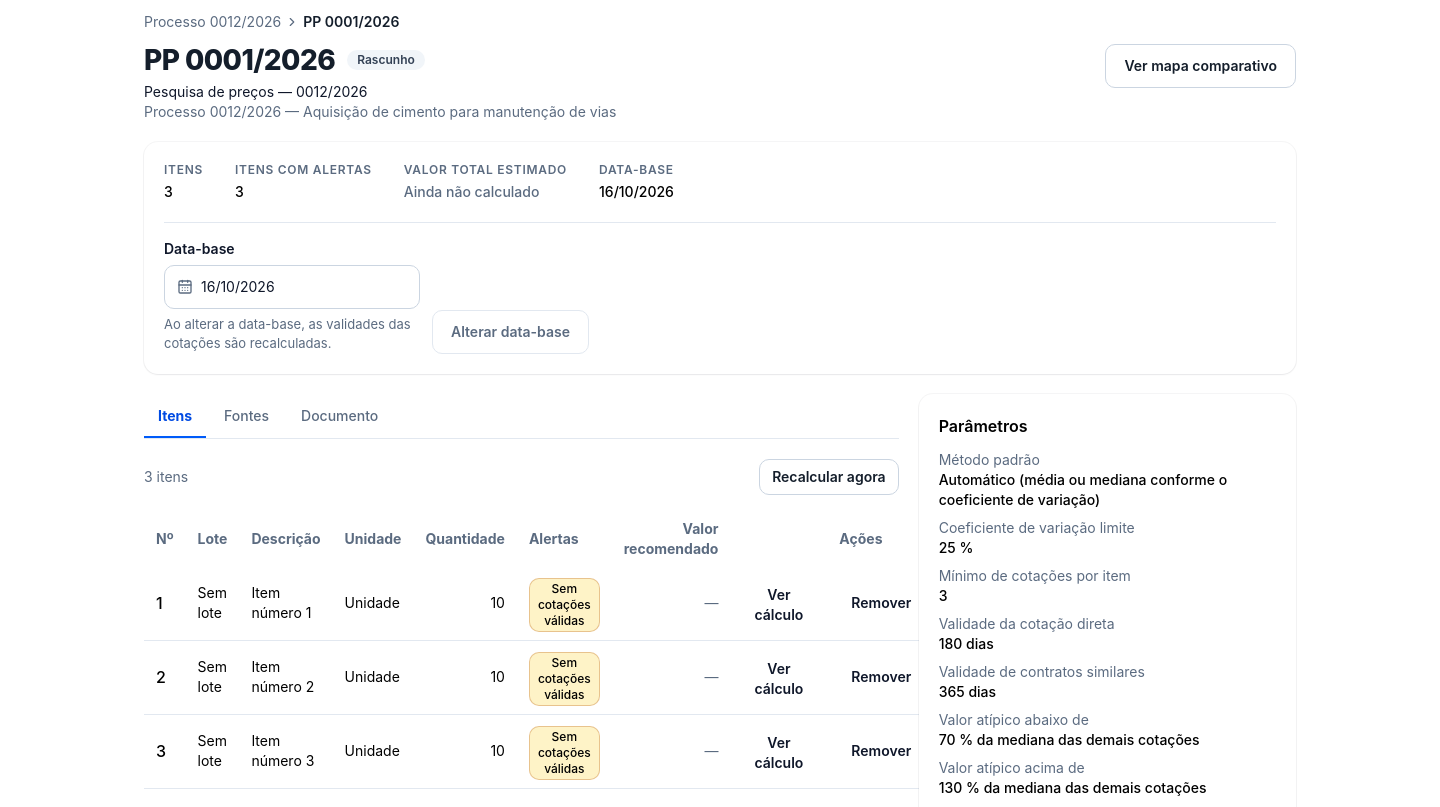
Aba "Fontes" da SCR-009 (US-026) › estado vazio com "Nova fonte" (PRS-09 com todas as páginas)
The width and height of the screenshot is (1440, 807).
Click the tab "Fontes". click: (246, 416)
box: [210,394,283,438]
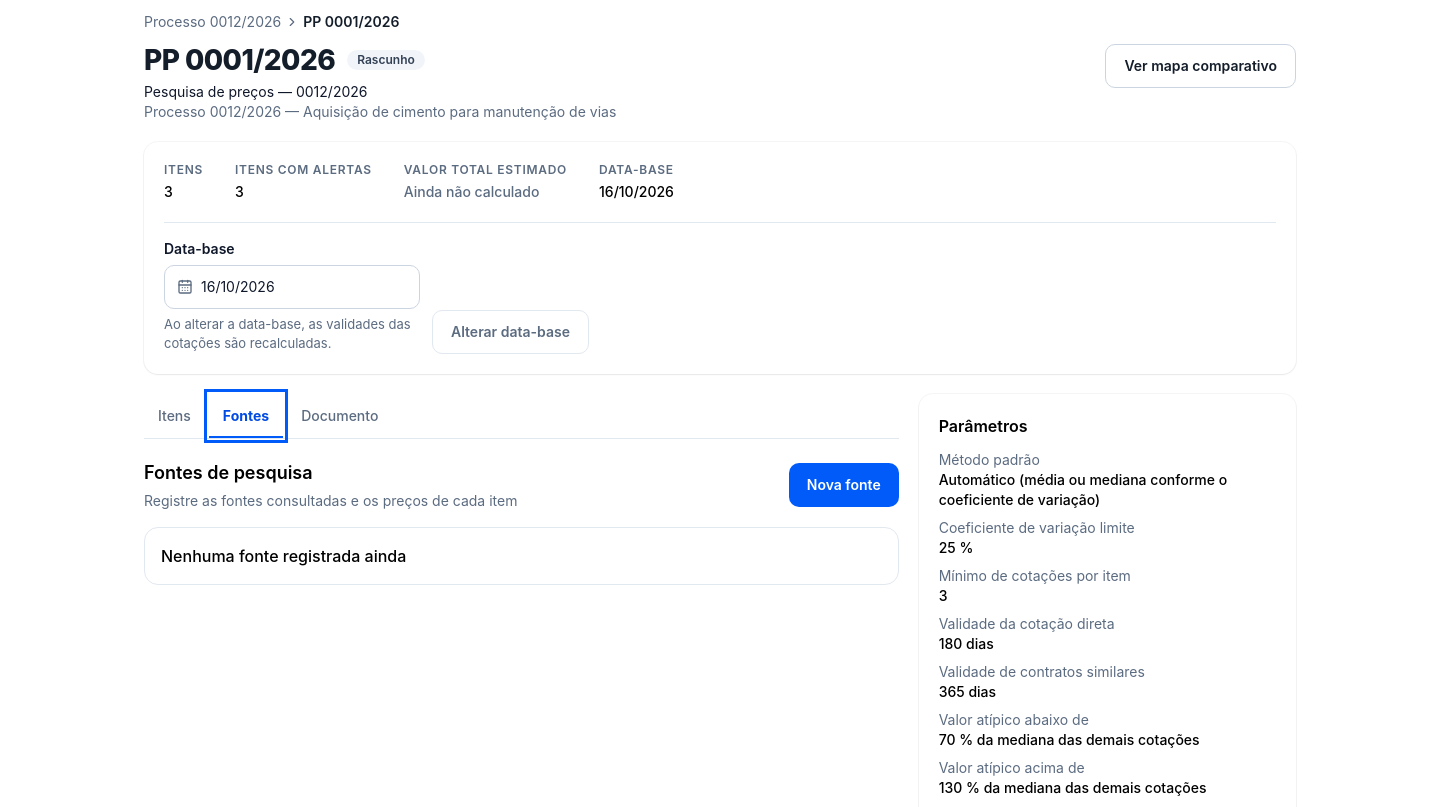
Check: the text "Nenhuma fonte registrada ainda" is shown, box [161,546,406,566]
Check: the button "Nova fonte" is shown, box [789,463,899,507]
